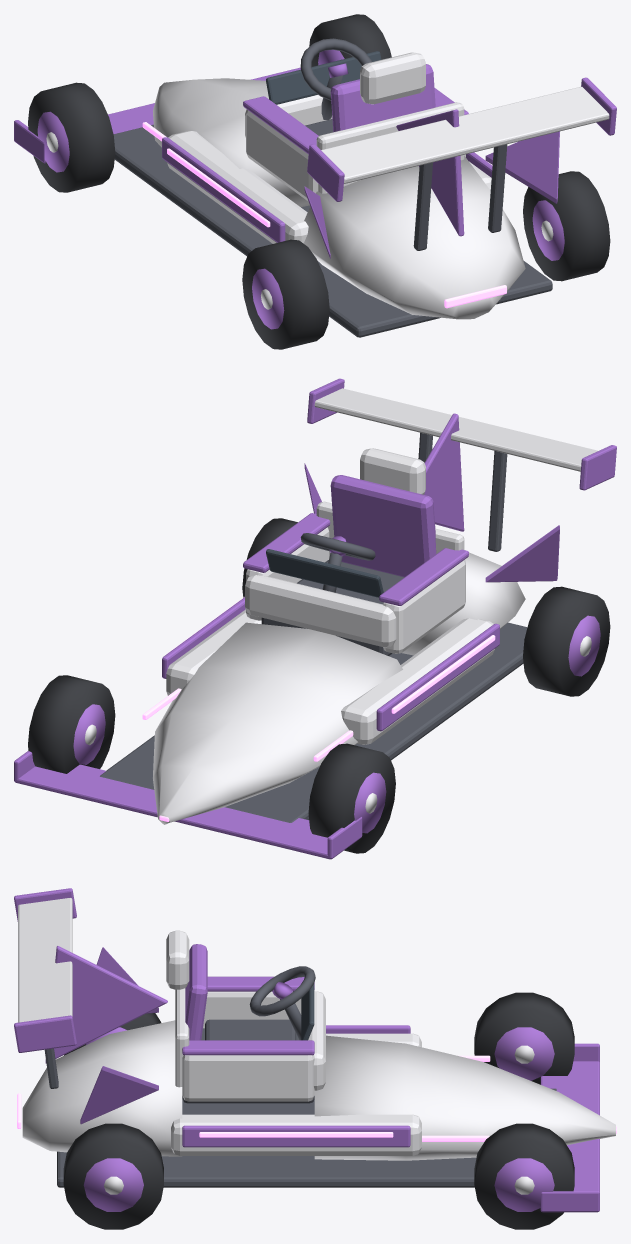
Rendered from kart-c.glb.
3 views of the same model, one above another, from view 1: azimuth 30°, elevation 25°; view 2: azimuth 150°, elevation 25°; view 3: azimuth 270°, elevation 25° (orthographic). The views are drawn at different scales.
Visible parts, largest first — view 1: tail, wing_rear, floor, wheel_rl, wheel_fl, wheel_rr, nose, pod_l, tub_wall_l, seat_back, fin_r, headrest (+17 smaller); view 2: nose, floor, seat_back, wheel_rl, wing_front, wheel_fl, wheel_fr, wing_rear, dash, pod_l, tail, tub_wall_l (+19 smaller); view 3: nose, tail, floor, wheel_rr, wheel_fr, wheel_fl, wing_rear, tub_wall_r, pod_r, fin_dorsal, pod_blade_r, wing_front (+20 smaller).
Part boxes in pixels (x1=…): tail: x1=304, y1=156, x2=525, y2=319; wing_rear: x1=321, y1=86, x2=609, y2=183; floor: x1=113, y1=124, x2=552, y2=337; wheel_rl: x1=242, y1=239, x2=329, y2=349; wheel_fl: x1=28, y1=82, x2=115, y2=192; wheel_rr: x1=523, y1=171, x2=610, y2=281; nose: x1=153, y1=78, x2=309, y2=206; pod_l: x1=167, y1=131, x2=308, y2=243; tub_wall_l: x1=246, y1=109, x2=318, y2=201; seat_back: x1=330, y1=64, x2=435, y2=132; fin_r: x1=485, y1=131, x2=559, y2=203; headrest: x1=360, y1=52, x2=425, y2=104; nose: x1=153, y1=622, x2=402, y2=824; floor: x1=100, y1=622, x2=527, y2=822; seat_back: x1=330, y1=475, x2=436, y2=577; wheel_rl: x1=523, y1=586, x2=610, y2=696; wing_front: x1=15, y1=764, x2=331, y2=859; wheel_fl: x1=308, y1=743, x2=395, y2=853; wheel_fr: x1=28, y1=675, x2=115, y2=773; wing_rear: x1=314, y1=388, x2=598, y2=471; dash: x1=245, y1=575, x2=396, y2=647; pod_l: x1=341, y1=618, x2=494, y2=744; tail: x1=402, y1=552, x2=525, y2=655; tub_wall_l: x1=383, y1=559, x2=465, y2=653; nose: x1=314, y1=1035, x2=615, y2=1160; tail: x1=22, y1=1020, x2=182, y2=1156; floor: x1=57, y1=1088, x2=556, y2=1187; wheel_rr: x1=63, y1=1123, x2=163, y2=1229; wheel_fr: x1=474, y1=1123, x2=574, y2=1229; wheel_fl: x1=474, y1=992, x2=574, y2=1084; wing_rear: x1=18, y1=898, x2=72, y2=1022; tub_wall_r: x1=182, y1=1055, x2=314, y2=1101; pod_r: x1=171, y1=1114, x2=421, y2=1155; fin_dorsal: x1=45, y1=946, x2=167, y2=1063; pod_blade_r: x1=182, y1=1125, x2=410, y2=1147; wing_front: x1=540, y1=1061, x2=599, y2=1212.
Bounding box in the file's own units: 1.55 × 1.04 × 2.64.
